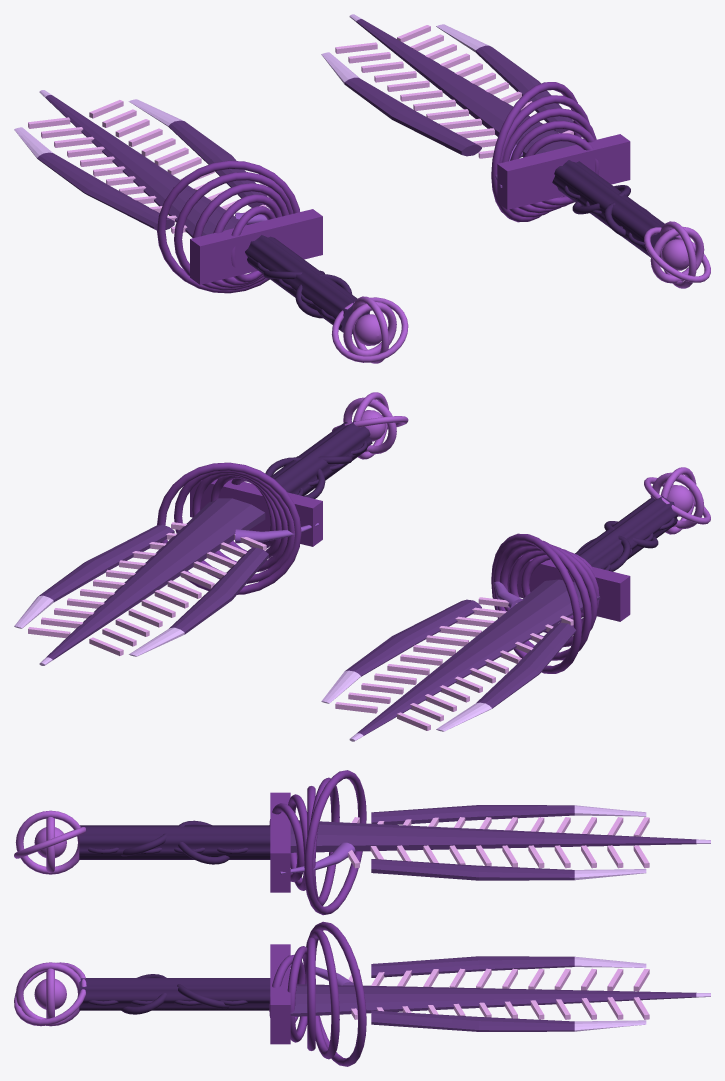
Rendered from art_abyssal_ravagers.fbx.
3 views of the same model, one above another, from view 1: azimuth 30°, elevation 25°; view 2: azimuth 150°, elevation 25°; view 3: azimuth 270°, elevation 25° (orthographic).
Parts seen in each view (by area): view 1: CrossguardL, Crossguard, BladeL, Blade, RuneInlay, HandleL, RuneInlayL, Handle, PommelL, Pommel, BladeEdgeL, BladeEdge; view 2: Blade, BladeL, Crossguard, CrossguardL, RuneInlayL, RuneInlay, Handle, HandleL, PommelL, Pommel, BladeEdge, BladeEdgeL (+1 smaller); view 3: BladeL, Blade, Crossguard, CrossguardL, HandleL, Handle, RuneInlay, RuneInlayL, Pommel, PommelL, BladeEdge, BladeEdgeL (+1 smaller).
Part boxes in pixels (x1=…): CrossguardL: x1=157, y1=160, x2=322, y2=293; Crossguard: x1=491, y1=82, x2=630, y2=222; BladeL: x1=37, y1=95, x2=267, y2=237; Blade: x1=344, y1=19, x2=575, y2=157; RuneInlay: x1=335, y1=25, x2=573, y2=158; HandleL: x1=245, y1=235, x2=370, y2=334; RuneInlayL: x1=28, y1=100, x2=266, y2=233; Handle: x1=552, y1=160, x2=676, y2=257; PommelL: x1=331, y1=296, x2=408, y2=363; Pommel: x1=644, y1=221, x2=710, y2=288; BladeEdgeL: x1=14, y1=90, x2=183, y2=158; BladeEdge: x1=321, y1=14, x2=488, y2=84; Blade: x1=38, y1=498, x2=268, y2=659; BladeL: x1=345, y1=579, x2=600, y2=735; Crossguard: x1=157, y1=462, x2=322, y2=594; CrossguardL: x1=491, y1=533, x2=630, y2=673; RuneInlayL: x1=335, y1=597, x2=573, y2=730; RuneInlay: x1=28, y1=522, x2=266, y2=655; Handle: x1=265, y1=421, x2=372, y2=498; HandleL: x1=575, y1=496, x2=678, y2=571; PommelL: x1=644, y1=467, x2=710, y2=534; Pommel: x1=332, y1=392, x2=408, y2=459; BladeEdge: x1=14, y1=595, x2=184, y2=665; BladeEdgeL: x1=321, y1=670, x2=491, y2=741; BladeL: x1=290, y1=805, x2=696, y2=880; Blade: x1=290, y1=956, x2=696, y2=1031; Crossguard: x1=269, y1=921, x2=366, y2=1066; CrossguardL: x1=269, y1=770, x2=366, y2=915; HandleL: x1=79, y1=820, x2=270, y2=864; Handle: x1=79, y1=974, x2=270, y2=1014; RuneInlay: x1=348, y1=968, x2=649, y2=1019; RuneInlayL: x1=348, y1=817, x2=649, y2=868; Pommel: x1=14, y1=962, x2=86, y2=1026; PommelL: x1=14, y1=810, x2=85, y2=874; BladeEdge: x1=574, y1=956, x2=710, y2=1031; BladeEdgeL: x1=574, y1=805, x2=710, y2=880.
Bounding box in the file's own units: 222 × 61.6 × 291.
